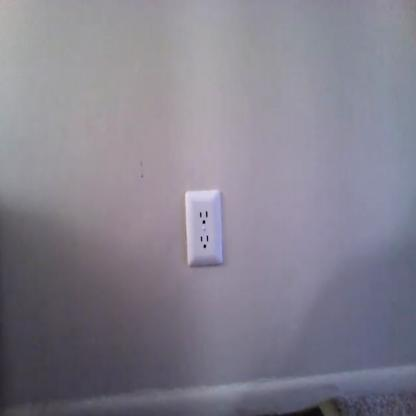OUTLET: (184, 189, 224, 268)
